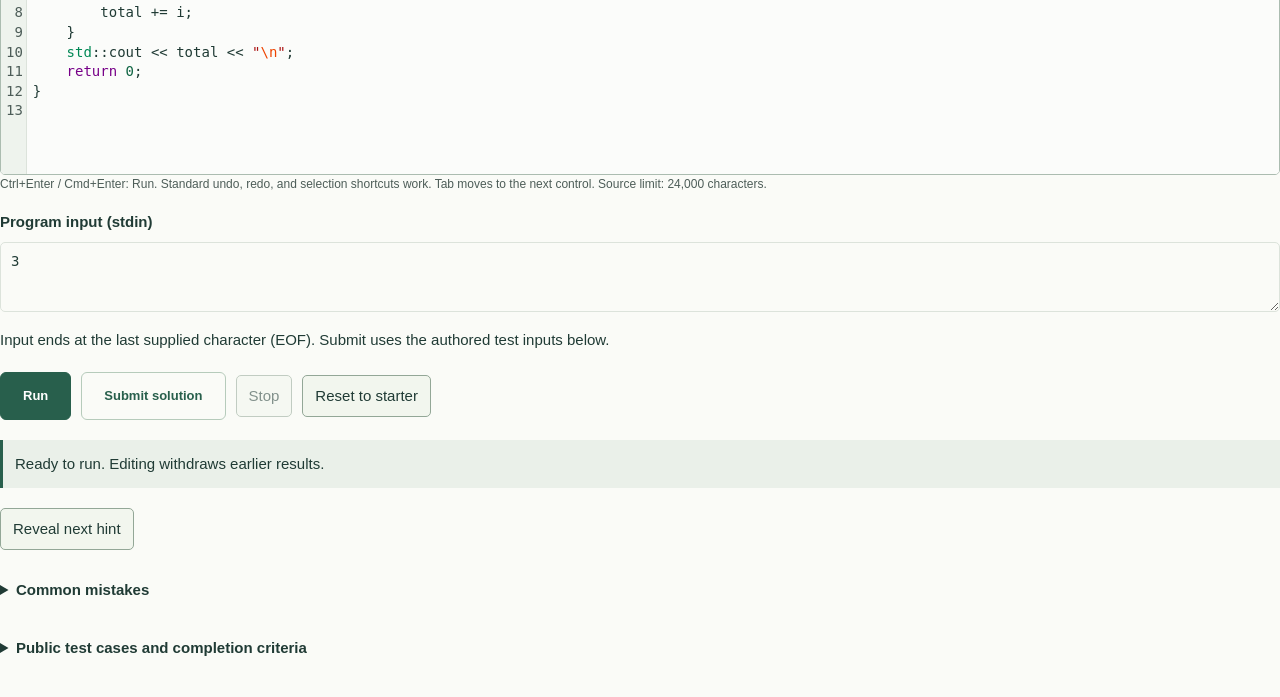
Scenario: coding lesson workspace › withholds completion for partial, missing, failed, or ordinary Run results
The image size is (1280, 697).
(page scrolled)
Click the button "Submit solution" at (153, 396), box [81, 372, 226, 420]
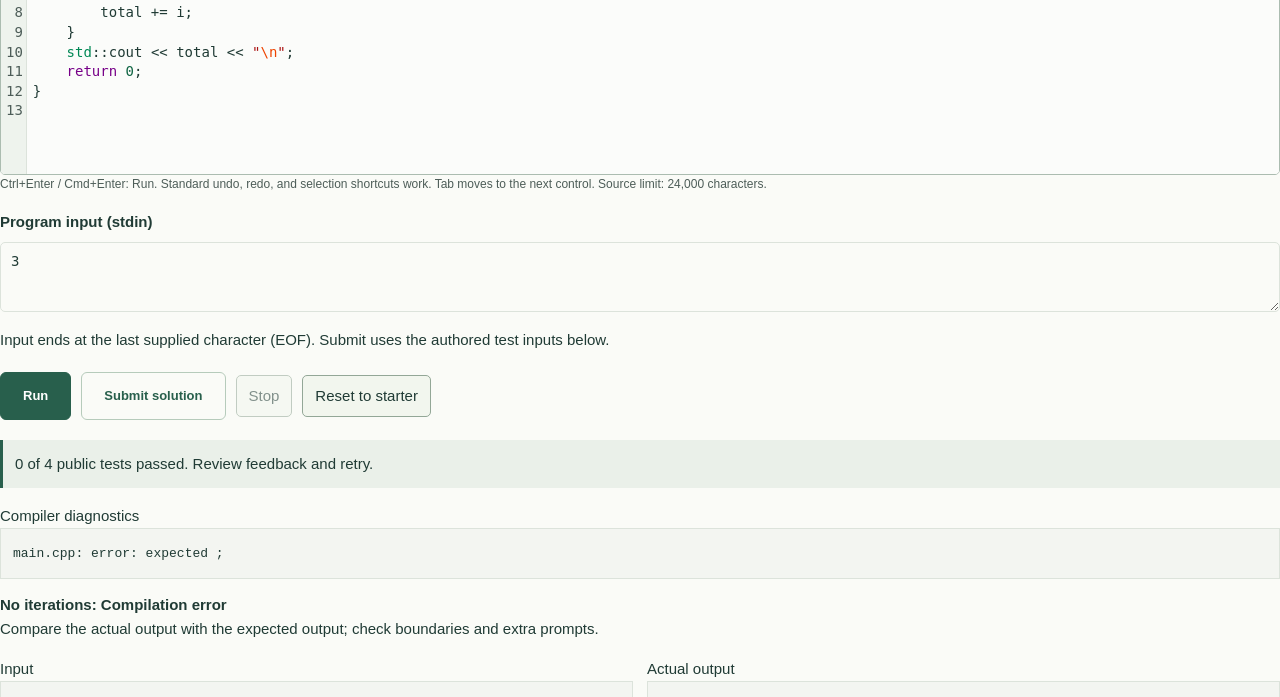
Now the text "main.cpp: error: expected ;" is shown, box [0, 528, 1279, 579]
Now the message shows "0 of 4", box [15, 455, 373, 472]
Click the button "Run" at (36, 396), box [0, 372, 71, 420]
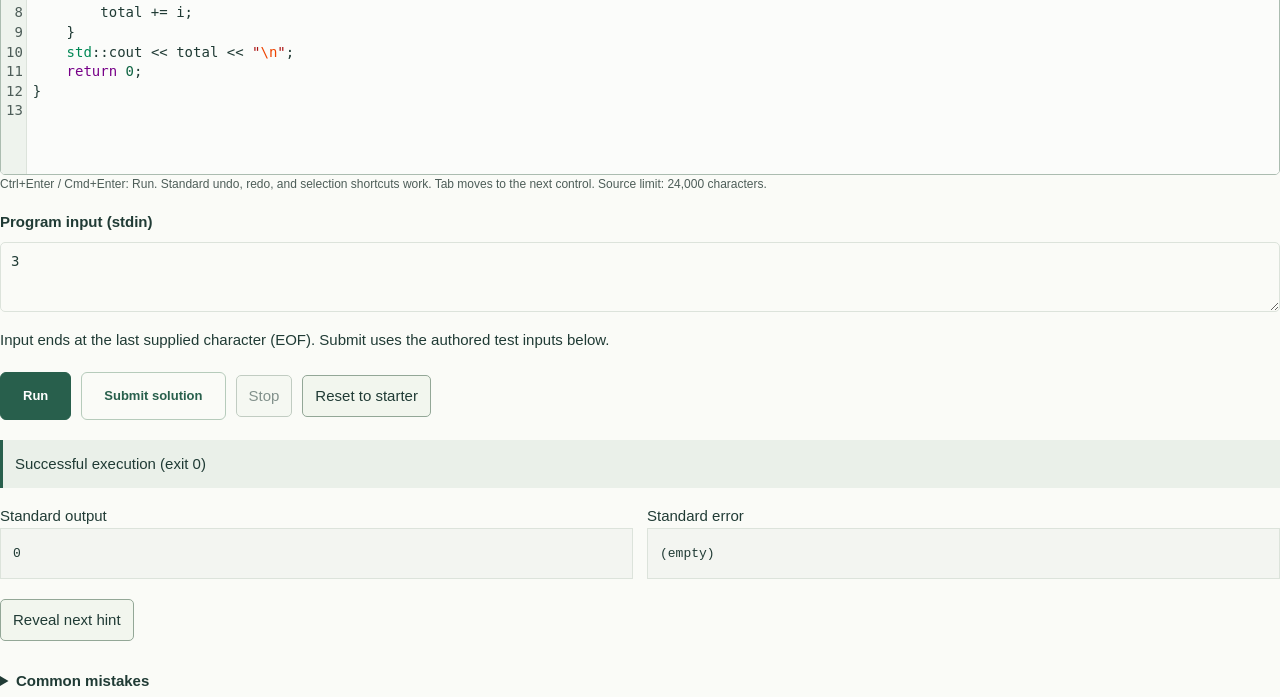
Now the message shows "Successful execution", box [15, 455, 206, 472]
